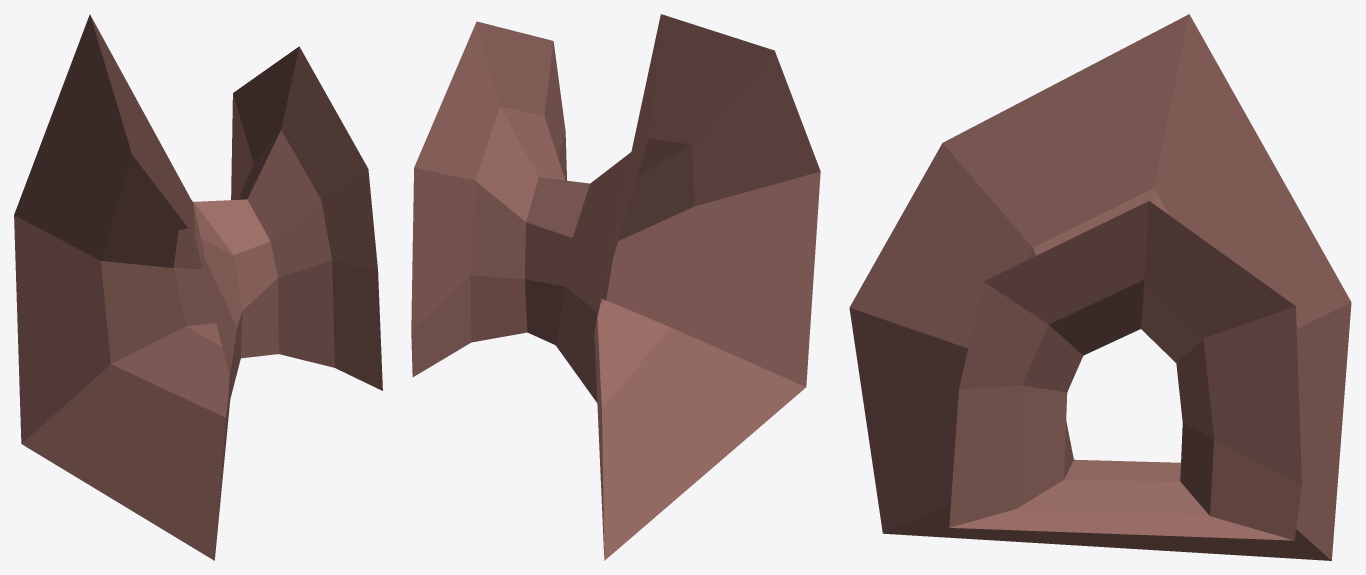
File: DomeExit-adapter-04.fbx
3 renders of one model, left to right at view 1: azimuth 30°, elevation 25°; view 2: azimuth 150°, elevation 25°; view 3: azimuth 270°, elevation 25°, orthographic. The views are drawn at different scales.
Parts seen in each view (by area): view 1: DomeExit-adapter-04; view 2: DomeExit-adapter-04; view 3: DomeExit-adapter-04.
Boxes of the visible parts, x1,y1,x2,y2 form: DomeExit-adapter-04: (14, 14, 382, 560); DomeExit-adapter-04: (411, 14, 820, 560); DomeExit-adapter-04: (849, 14, 1351, 560).
Size of the model in its own units: 556 by 1259 by 1039.
